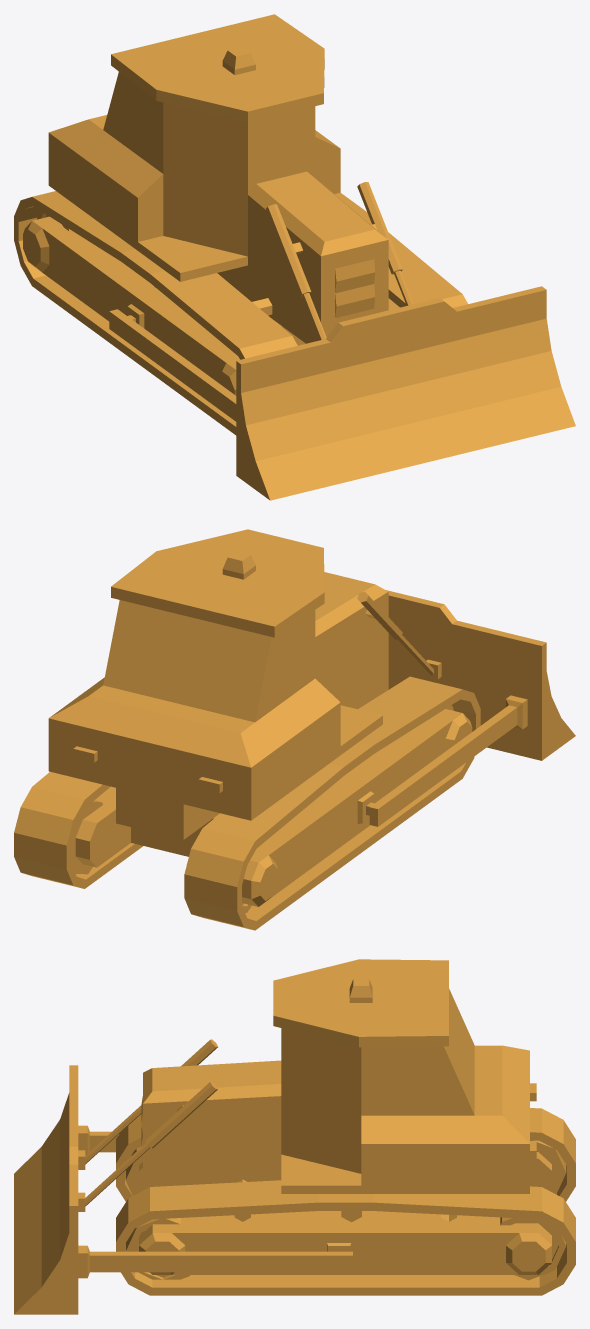
File: bulldozer.glb
3 renders of one model, top to bottom at view 1: azimuth 30°, elevation 25°; view 2: azimuth 150°, elevation 25°; view 3: azimuth 270°, elevation 25°, orthographic. The views are drawn at different scales.
Parts seen in each view (by area): view 1: bulldozer-base, bulldozer-front, bulldozer-belt, bulldozer-chassis; view 2: bulldozer-base, bulldozer-belt, bulldozer-front, bulldozer-chassis, bulldozer-wheel_B; view 3: bulldozer-base, bulldozer-belt, bulldozer-front, bulldozer-chassis, bulldozer-wheel_B, bulldozer-wheel_F.
Boxes of the visible parts, left/top/right/bottom form: bulldozer-base: left=48, top=14, right=388, bottom=343; bulldozer-front: left=109, top=182, right=575, bottom=500; bulldozer-belt: left=14, top=191, right=467, bottom=435; bulldozer-chassis: left=23, top=216, right=399, bottom=395; bulldozer-base: left=48, top=529, right=388, bottom=839; bulldozer-belt: left=14, top=676, right=480, bottom=930; bulldozer-front: left=357, top=590, right=575, bottom=826; bulldozer-chassis: left=75, top=709, right=472, bottom=906; bulldozer-wheel_B: left=71, top=800, right=251, bottom=912; bulldozer-base: left=141, top=959, right=536, bottom=1193; bulldozer-belt: left=116, top=1108, right=575, bottom=1295; bulldozer-front: left=14, top=1039, right=352, bottom=1314; bulldozer-chassis: left=139, top=1152, right=551, bottom=1274; bulldozer-wheel_B: left=500, top=1140, right=566, bottom=1280; bulldozer-wheel_F: left=125, top=1147, right=190, bottom=1279.
Bounding box in the file's own units: 2.9 × 2.51 × 4.88.
